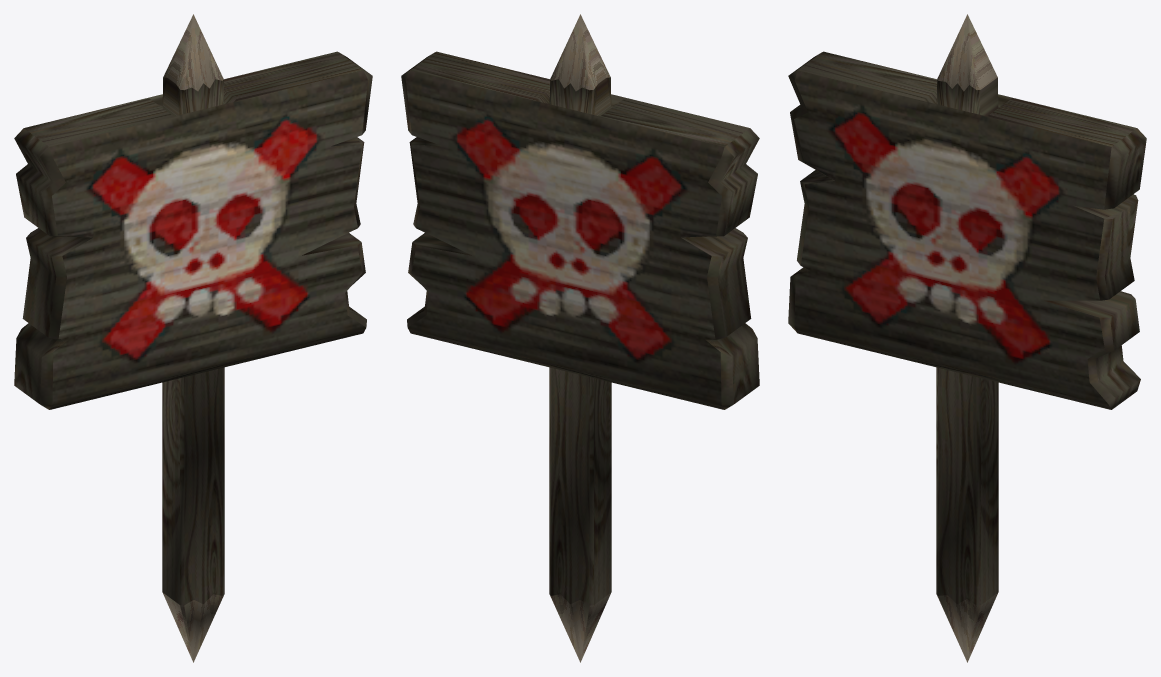
3 views of the same model, side by side, from view 1: azimuth 30°, elevation 25°; view 2: azimuth 150°, elevation 25°; view 3: azimuth 330°, elevation 25° (orthographic).
Parts seen in each view (by area): view 1: lambert2_v001, lambert3_v001, lambert4_v001; view 2: lambert2_v001, lambert3_v001, lambert4_v001; view 3: lambert2_v001, lambert3_v001, lambert4_v001.
Part boxes in pixels (x1,y1,x2,y2): lambert2_v001: [49, 70, 367, 409]; lambert3_v001: [14, 51, 372, 605]; lambert4_v001: [163, 14, 223, 662]; lambert2_v001: [406, 70, 724, 409]; lambert3_v001: [401, 51, 759, 605]; lambert4_v001: [550, 14, 610, 662]; lambert2_v001: [794, 70, 1111, 409]; lambert3_v001: [788, 51, 1146, 605]; lambert4_v001: [937, 14, 997, 662].
Size of the model in its own units: 300 by 559 by 49.75.
